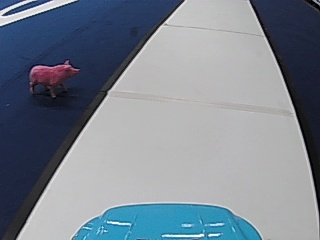pig: (27, 57, 79, 97)
